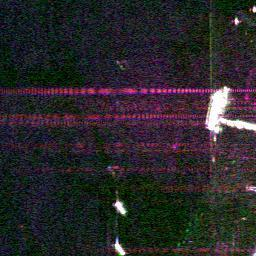Ship: (203, 80, 227, 142), (111, 201, 128, 218), (113, 239, 126, 255), (209, 155, 217, 166), (232, 16, 240, 26), (248, 4, 255, 14)
